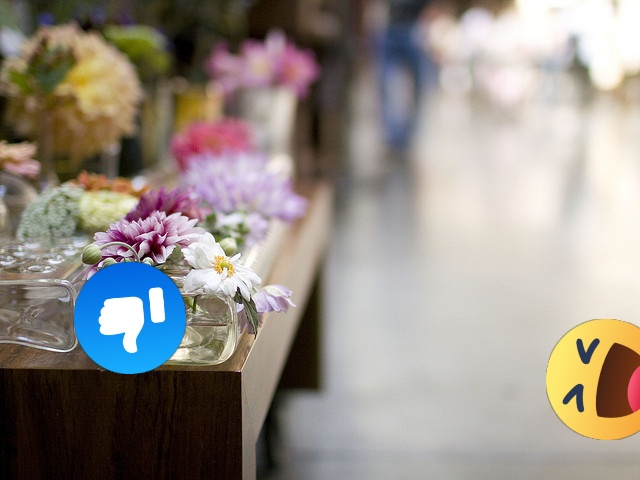haha: (546, 319, 640, 440)
like: (74, 262, 186, 374)
